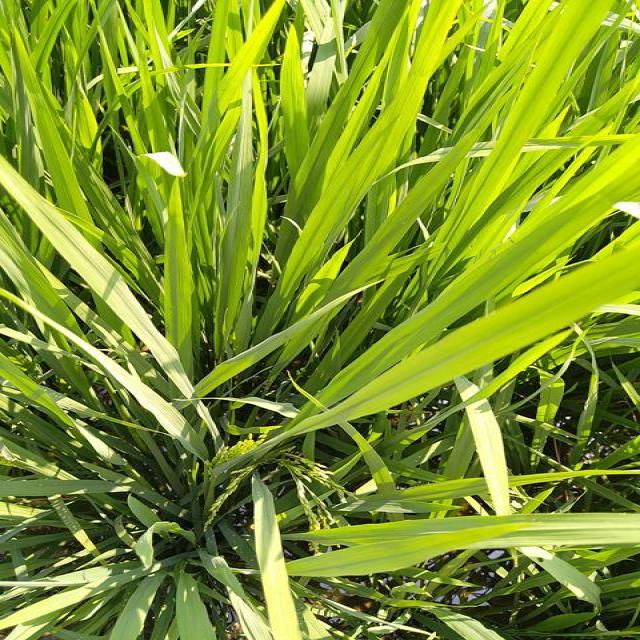Rice: (257, 232, 640, 447), (443, 0, 640, 231), (282, 25, 444, 232), (292, 509, 635, 582), (11, 34, 94, 222), (215, 73, 256, 354), (255, 474, 310, 640), (462, 368, 512, 524), (160, 178, 190, 380), (276, 23, 313, 181), (107, 571, 163, 640), (0, 477, 149, 497), (175, 564, 213, 640)
